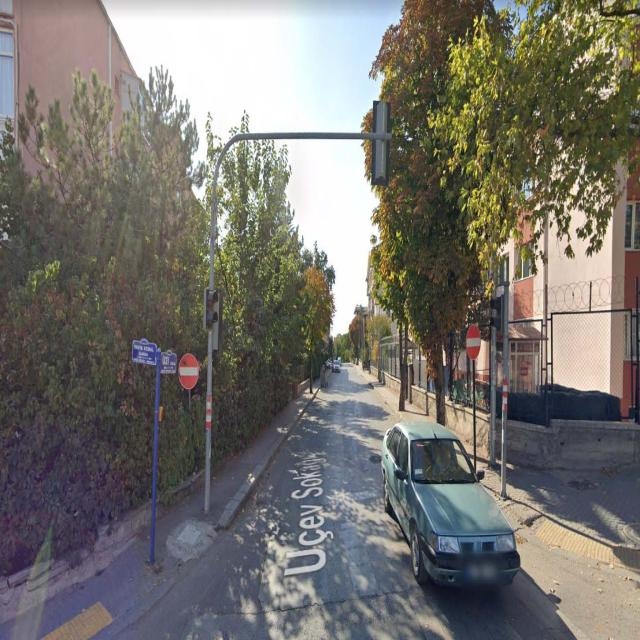girisyok: (178, 353, 199, 389), (466, 325, 480, 360)
